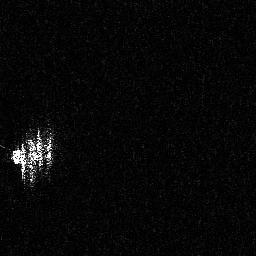ship: (8, 117, 58, 193)
